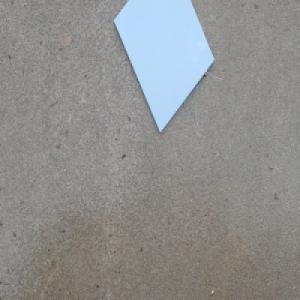PaintChip: (111, 0, 215, 135)
